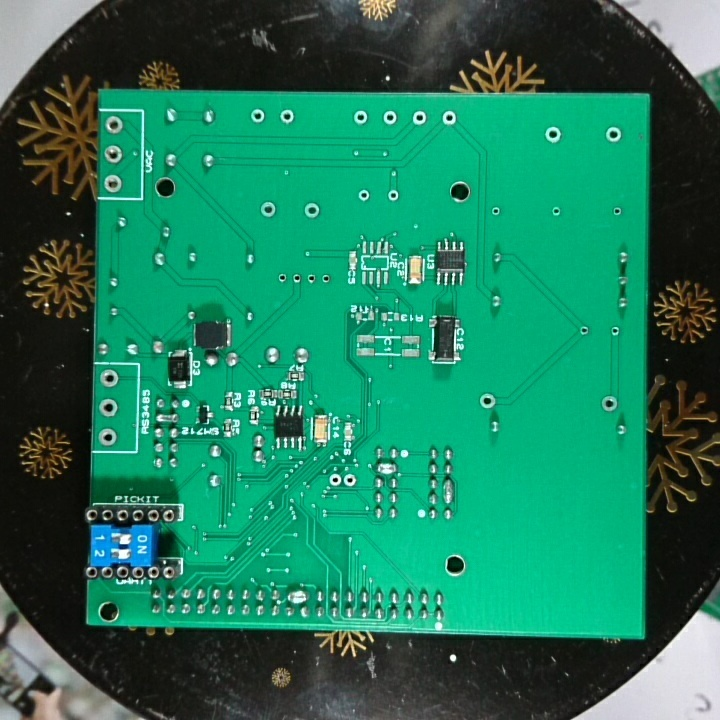F: (97, 367, 121, 392), (103, 113, 126, 137), (98, 424, 120, 449), (102, 172, 124, 195), (257, 198, 279, 220), (103, 142, 125, 164), (98, 396, 119, 419), (543, 125, 565, 145), (302, 200, 322, 222), (603, 125, 624, 145), (599, 393, 619, 413), (277, 107, 297, 126), (248, 106, 267, 126), (478, 390, 497, 410), (351, 108, 370, 126), (440, 108, 457, 128), (410, 109, 427, 127), (382, 108, 399, 126), (356, 185, 371, 205), (342, 472, 358, 490), (326, 472, 342, 489), (385, 186, 399, 205), (608, 323, 622, 342), (274, 270, 289, 287), (304, 271, 319, 287), (319, 269, 331, 289), (548, 203, 563, 218), (577, 323, 590, 340), (290, 271, 302, 289), (489, 203, 503, 218), (611, 203, 623, 219)
P: (283, 587, 310, 605), (373, 460, 399, 476), (153, 412, 180, 425), (442, 478, 454, 506)
